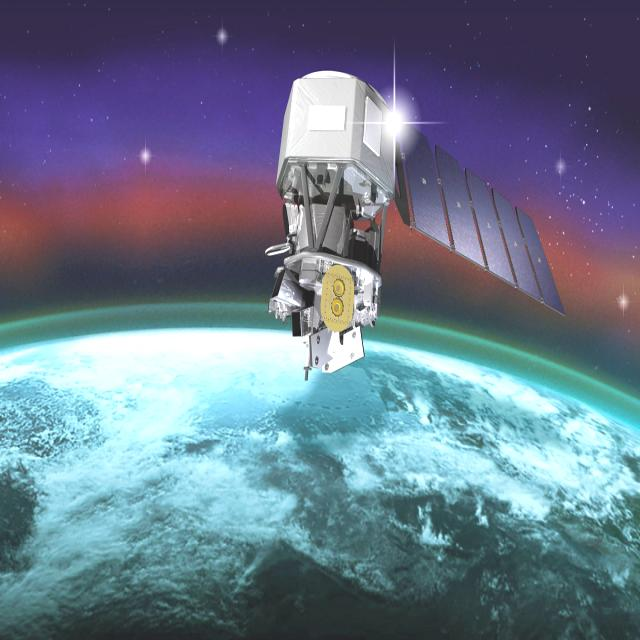satellite: (239, 72, 572, 396)
